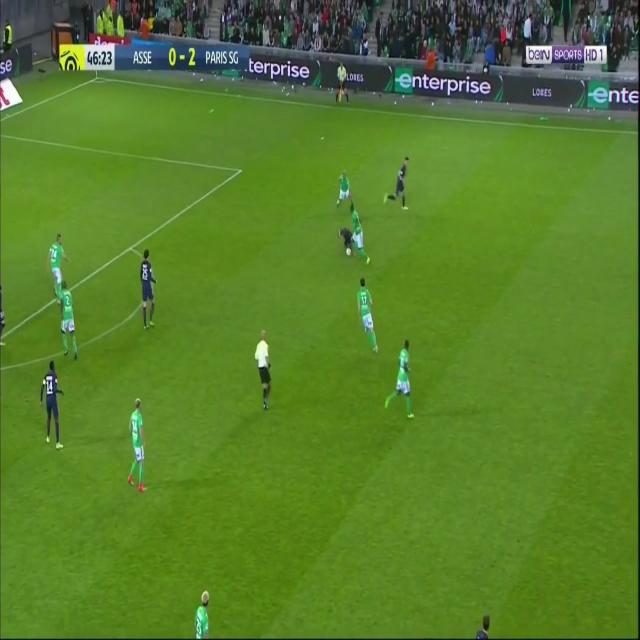Ball: (344, 246, 353, 258)
Player: (384, 337, 416, 424), (39, 360, 67, 452), (127, 394, 149, 496), (354, 274, 381, 356), (382, 154, 415, 216), (252, 328, 274, 416), (348, 199, 373, 268), (140, 248, 159, 336), (61, 279, 78, 363), (49, 230, 67, 302), (194, 586, 212, 640), (332, 166, 350, 208)
Referee: (335, 62, 351, 105)
